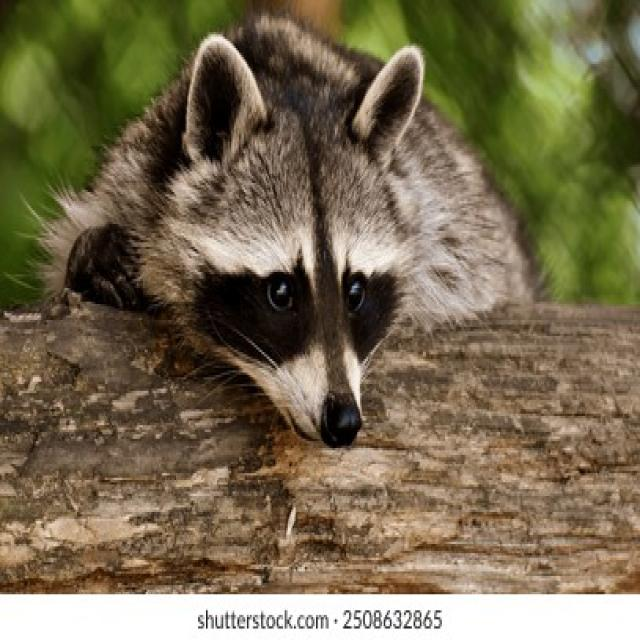Raccoon: (51, 29, 525, 452)
